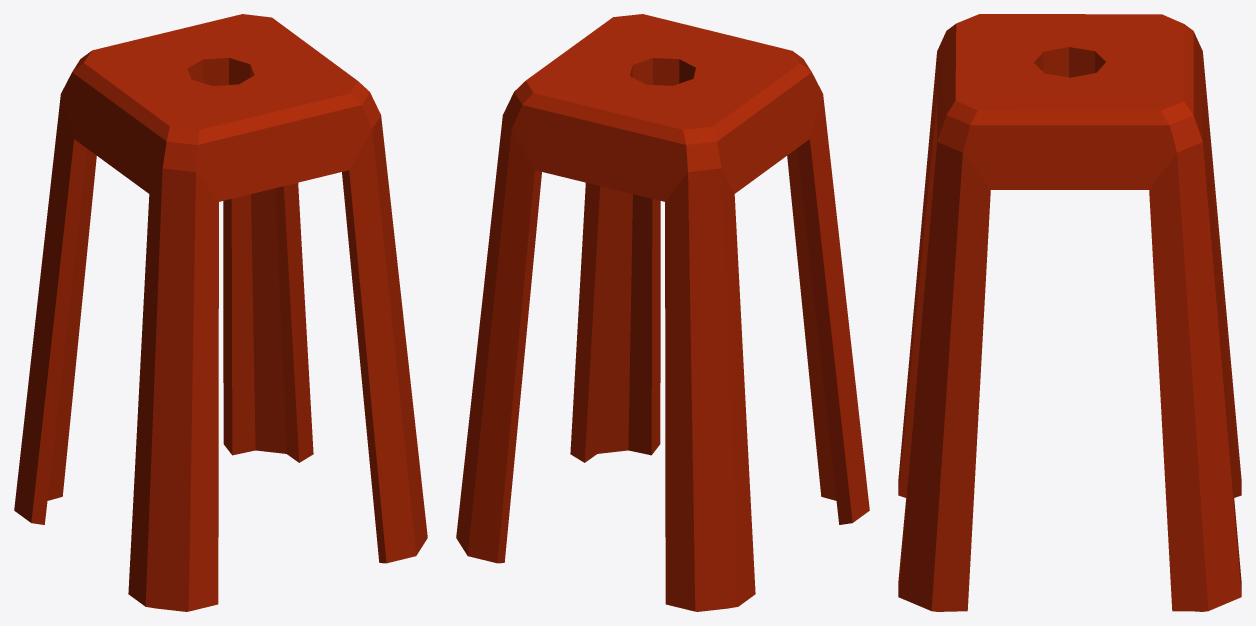
The model's file is Chair 2.fbx.
3 views of the same model, side by side, from view 1: azimuth 30°, elevation 25°; view 2: azimuth 150°, elevation 25°; view 3: azimuth 270°, elevation 25° (orthographic). The views are drawn at different scales.
Visible parts, largest first — view 1: Cube; view 2: Cube; view 3: Cube.
Boxes of the visible parts, left/top/right/bottom form: Cube: left=14, top=14, right=427, bottom=611; Cube: left=456, top=14, right=869, bottom=611; Cube: left=898, top=14, right=1241, bottom=611.
Bounding box in the file's own units: 57.09 × 88.76 × 57.09.
